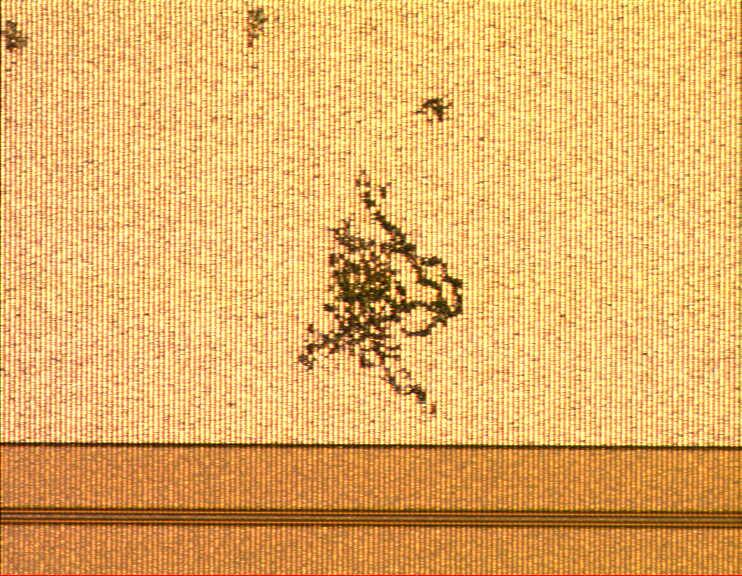SCRATCH: (1, 1, 474, 428)
